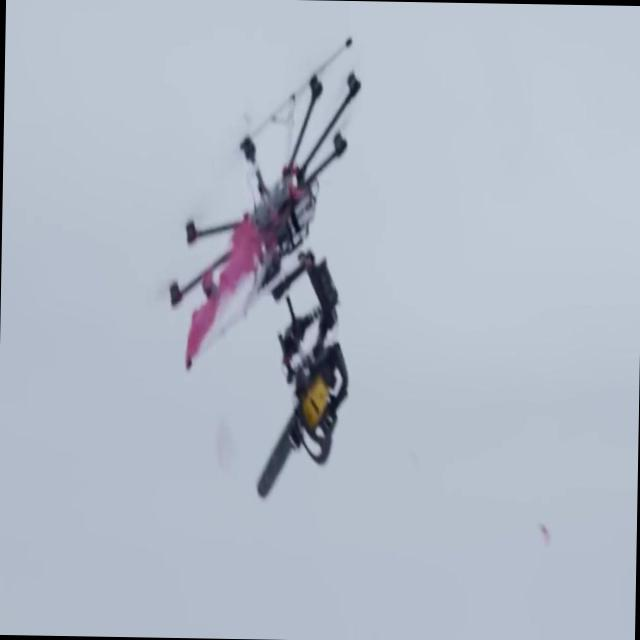drone: (168, 30, 362, 348)
